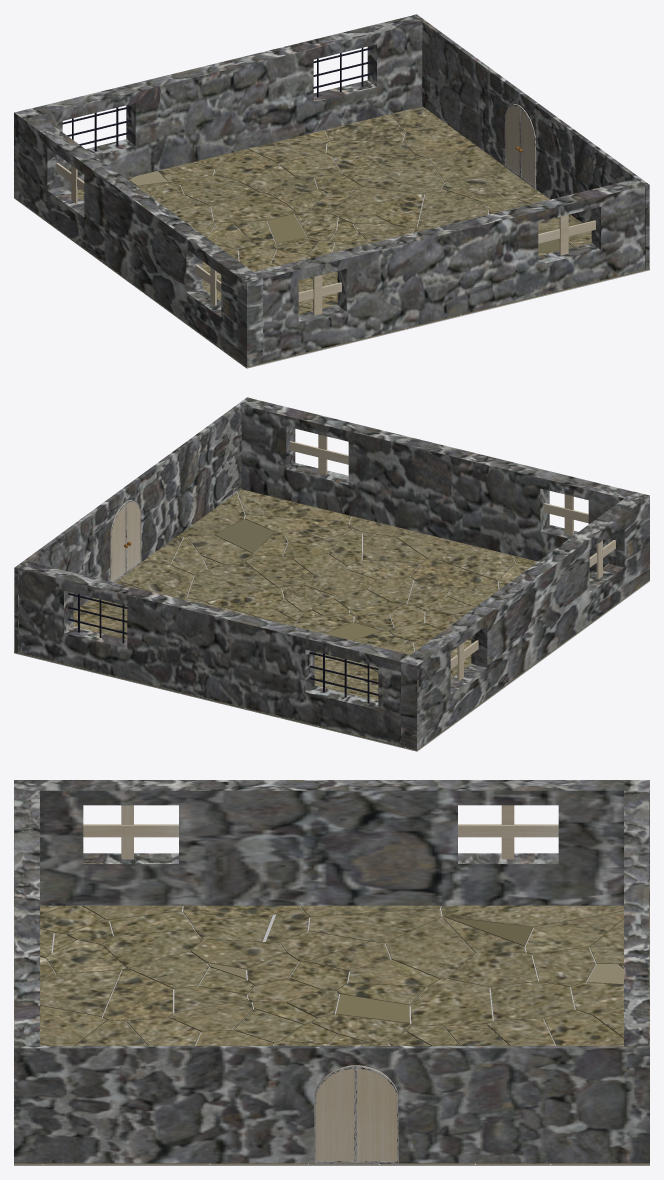
Rendered from Room 1.fbx.
3 views of the same model, one above another, from view 1: azimuth 30°, elevation 25°; view 2: azimuth 150°, elevation 25°; view 3: azimuth 270°, elevation 25° (orthographic). The views are drawn at different scales.
Visible parts, largest first — view 1: D, Floor_fracturepart1, Cube_1, door_r, Floor_under, Cylinder_5_2; view 2: D, Floor_fracturepart1, Cube_1, door_r, Floor_under, Cylinder_5_2; view 3: D, Floor_fracturepart1, door_r, Cube_1, Floor_under, edging_l1.
Part boxes in pixels (left/top/right/bottom): D: left=14, top=14, right=649, bottom=366; Floor_fracturepart1: left=14, top=106, right=649, bottom=367; Cube_1: left=56, top=163, right=595, bottom=315; door_r: left=505, top=104, right=535, bottom=188; Floor_under: left=14, top=115, right=649, bottom=368; Cylinder_5_2: left=62, top=47, right=372, bottom=151; D: left=14, top=397, right=649, bottom=749; Floor_fracturepart1: left=14, top=489, right=649, bottom=750; Cube_1: left=289, top=434, right=615, bottom=680; door_r: left=110, top=500, right=140, bottom=582; Floor_under: left=14, top=492, right=649, bottom=751; Cylinder_5_2: left=68, top=593, right=378, bottom=703; D: left=14, top=780, right=649, bottom=1163; Floor_fracturepart1: left=14, top=905, right=649, bottom=1164; door_r: left=314, top=1065, right=398, bottom=1162; Cube_1: left=83, top=805, right=558, bottom=859; Floor_under: left=14, top=906, right=649, bottom=1165; edging_l1: left=314, top=1065, right=398, bottom=1163.
Size of the model in its own units: 5004 by 1017 by 5000.
Materials: 7 (5 with a texture image).
